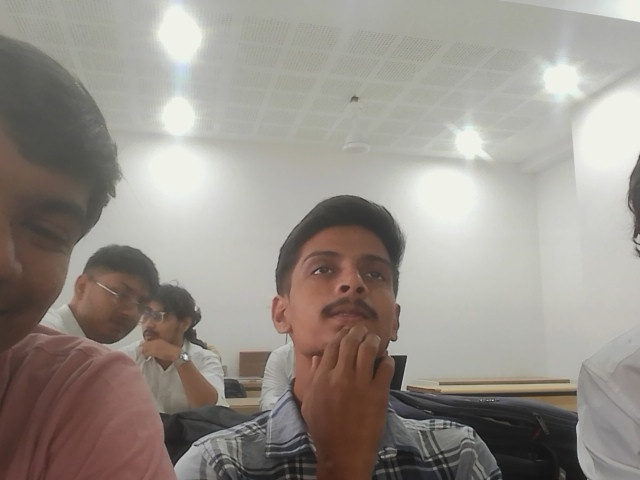fan_on: (340, 94, 370, 153)
light_on: (143, 17, 220, 180), (445, 120, 490, 159), (537, 67, 558, 88)
person: (174, 200, 505, 479), (0, 32, 179, 479), (573, 130, 639, 479)
